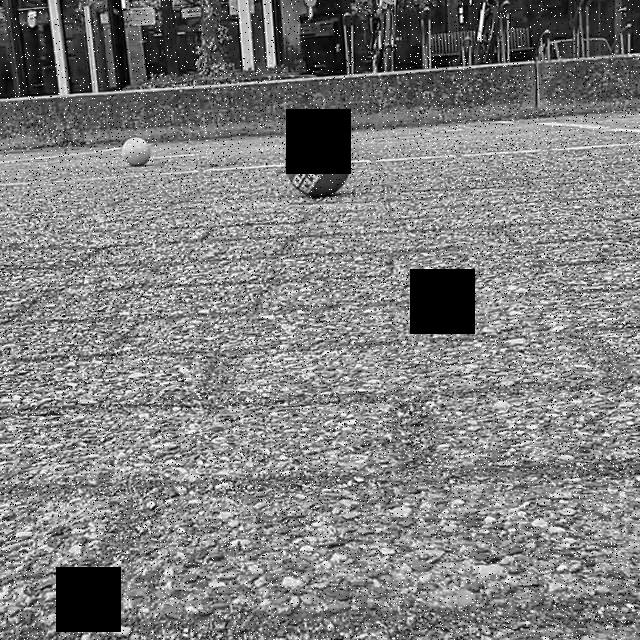ball: (120, 137, 153, 170), (328, 117, 352, 141)
